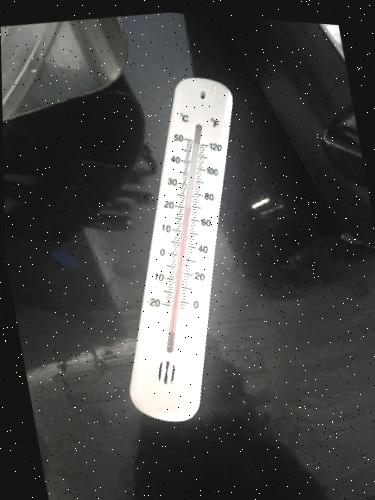thermo: (124, 77, 245, 419)
